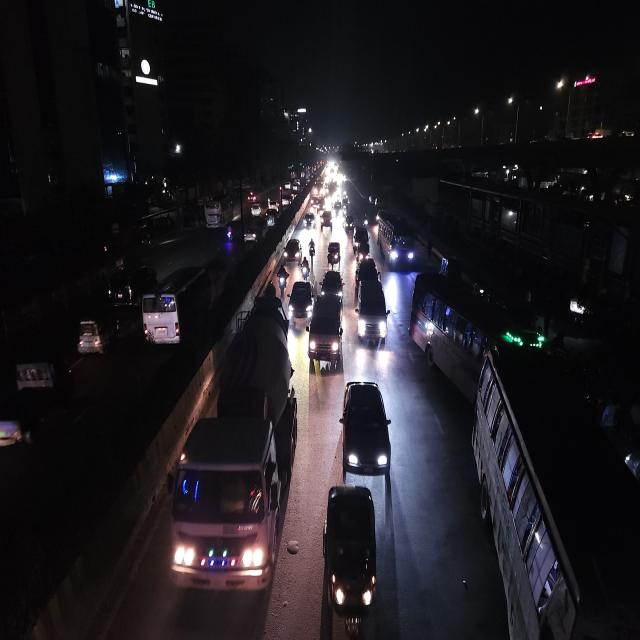bus: (477, 340, 639, 640), (410, 271, 511, 406), (141, 258, 213, 356), (377, 209, 418, 273), (202, 192, 234, 230)
car: (338, 376, 393, 485), (353, 262, 389, 349), (308, 292, 344, 369), (108, 262, 154, 307), (288, 278, 314, 330), (320, 268, 345, 299), (353, 225, 371, 261), (283, 234, 302, 264), (320, 209, 334, 237), (242, 227, 258, 246), (302, 209, 316, 230), (344, 213, 356, 236), (265, 208, 278, 227), (310, 195, 324, 212), (250, 202, 263, 219), (282, 190, 294, 207), (333, 200, 342, 217)
cng: (321, 482, 379, 632), (75, 311, 118, 362), (326, 239, 341, 271)
motorcycle: (276, 263, 290, 293), (299, 255, 311, 281), (224, 221, 236, 246), (308, 238, 317, 266), (363, 209, 371, 227)
truck: (166, 298, 300, 597)
